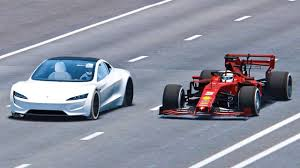FormulaOneCar: (155, 51, 294, 125)
